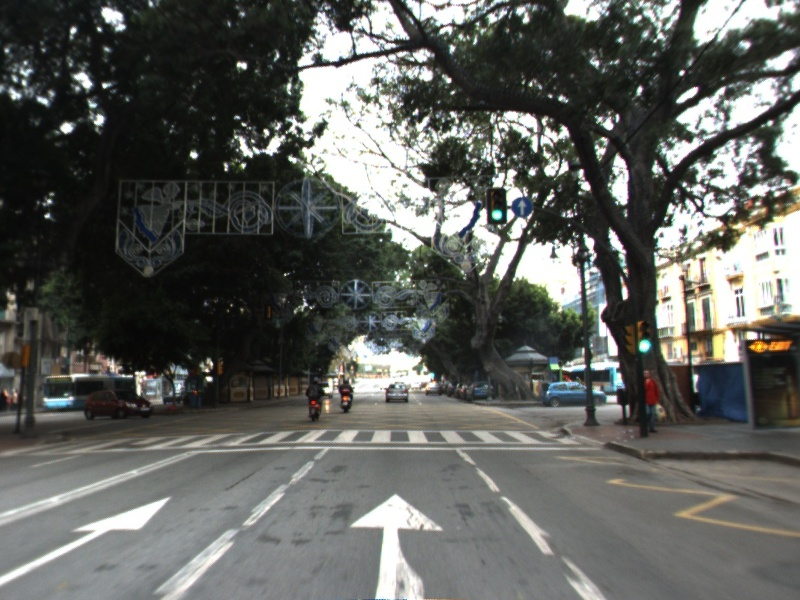STRAIGHT: (1, 493, 175, 584), (346, 490, 447, 600)
